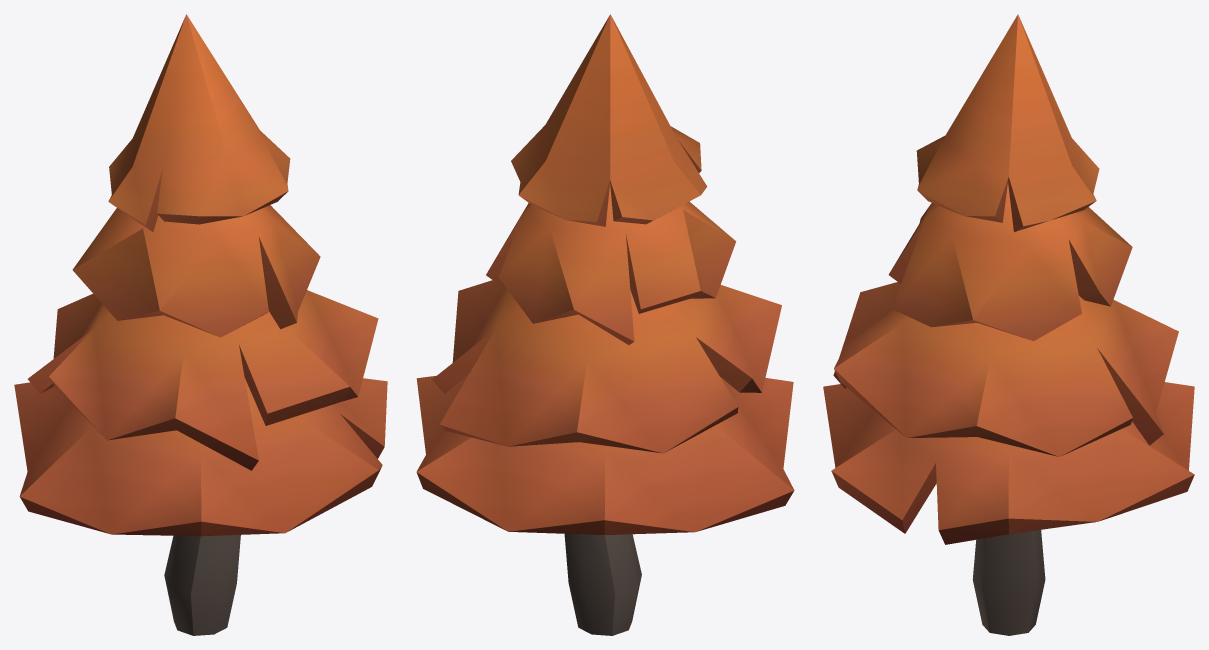
The model's file is tree_pine_orange_large.glb.
3 views of the same model, side by side, from view 1: azimuth 30°, elevation 25°; view 2: azimuth 150°, elevation 25°; view 3: azimuth 270°, elevation 25° (orthographic).
Parts seen in each view (by area): view 1: tree_pine_orange_large; view 2: tree_pine_orange_large; view 3: tree_pine_orange_large.
Part boxes in pixels (x1,y1,x2,y2): tree_pine_orange_large: (14,14,387,635); tree_pine_orange_large: (416,14,794,635); tree_pine_orange_large: (823,14,1194,635).
Bounding box in the file's own units: 4.76 × 7.48 × 4.16.
Materials: 1 (1 with a texture image).
